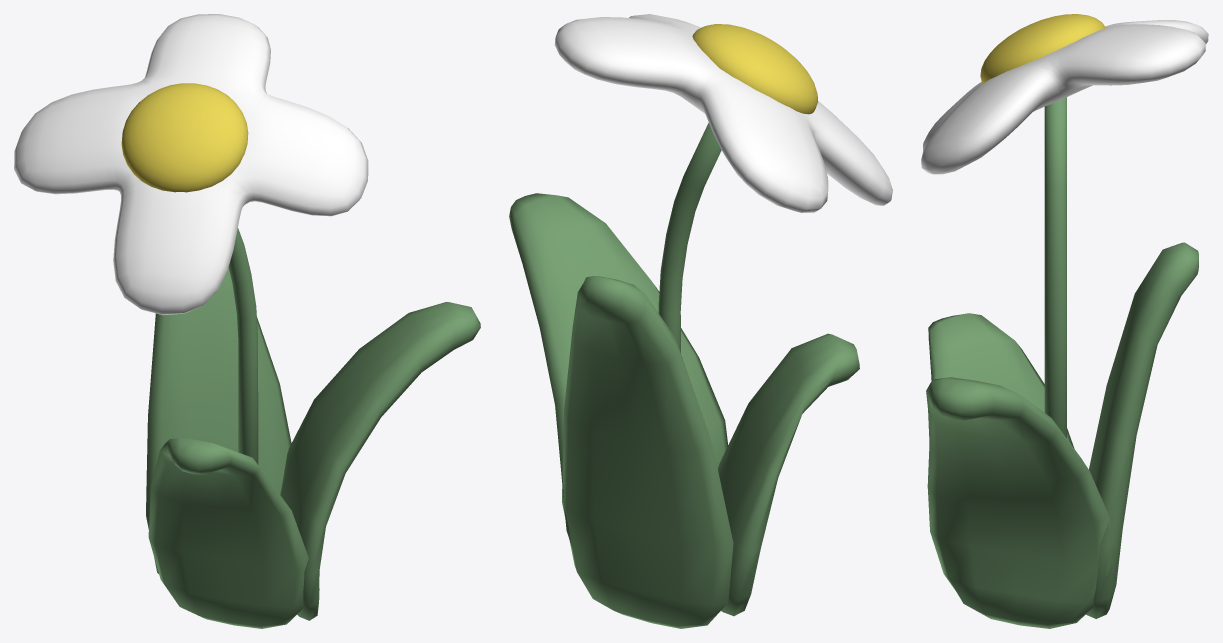
The model's file is flower2.fbx.
3 renders of one model, left to right at view 1: azimuth 30°, elevation 25°; view 2: azimuth 150°, elevation 25°; view 3: azimuth 270°, elevation 25°, orthographic. The views are drawn at different scales.
Visible parts, largest first — view 1: flower2; view 2: flower2; view 3: flower2.
Part boxes in pixels (x1,y1,x2,y2): flower2: (14,14,480,628); flower2: (509,14,892,628); flower2: (921,14,1208,628).
Size of the model in its own units: 146 by 207 by 93.5.
